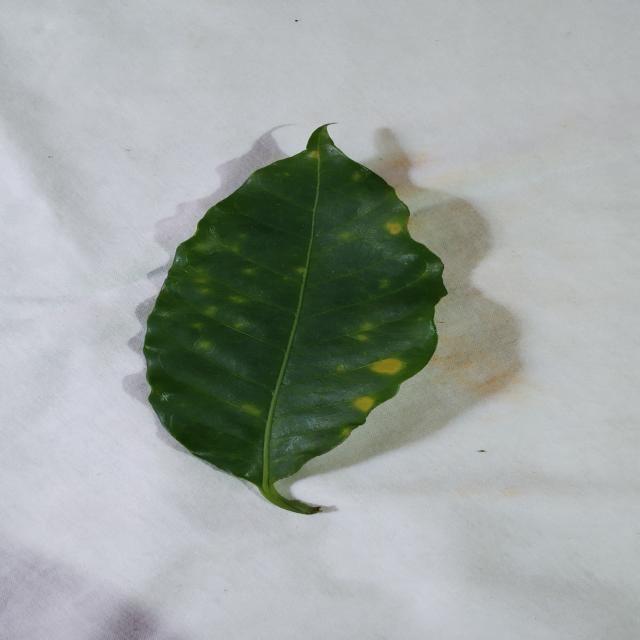Enfermedad-Roya: (143, 127, 448, 517)
